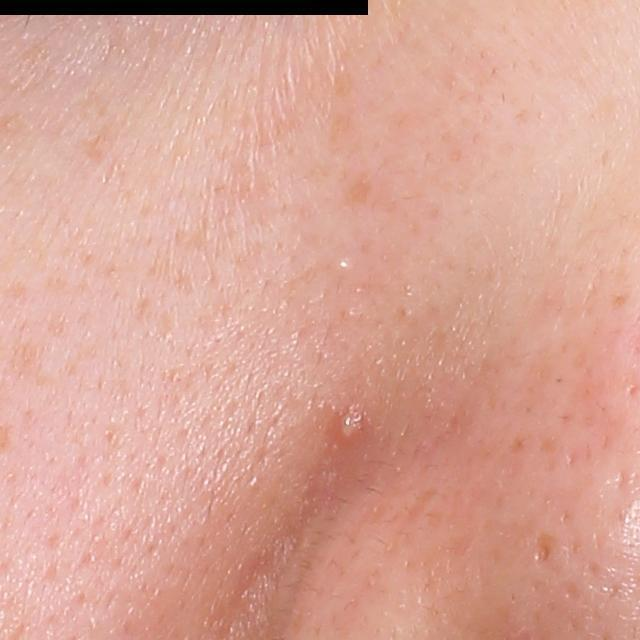atrophic_scar: (534, 536, 556, 568)
melasma: (5, 338, 58, 387), (79, 115, 128, 165), (343, 172, 383, 212), (2, 276, 34, 306)
pustule: (336, 411, 370, 440)
